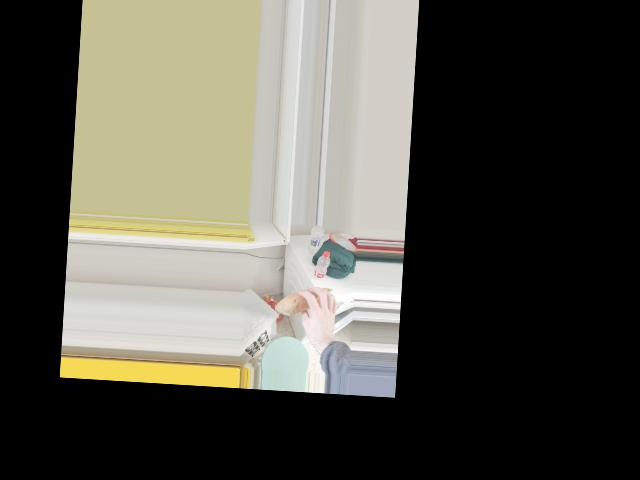sweet_potato: (280, 285, 334, 313)
